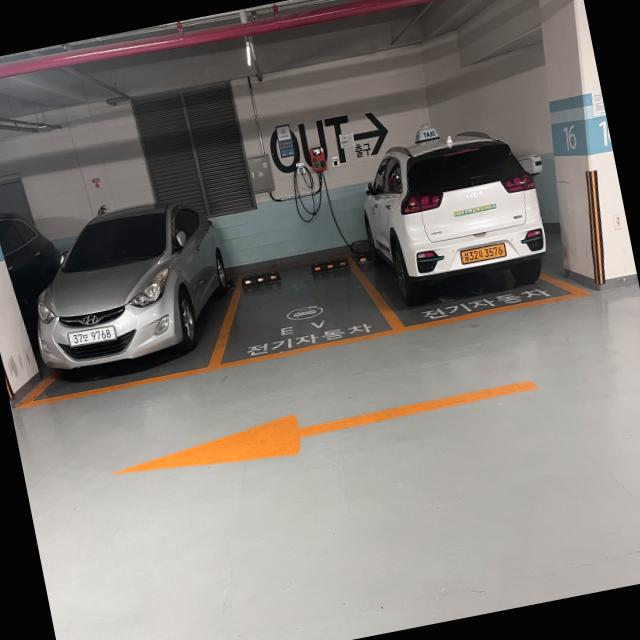car: (338, 134, 578, 349), (18, 190, 224, 404)
free: (217, 260, 401, 361)
